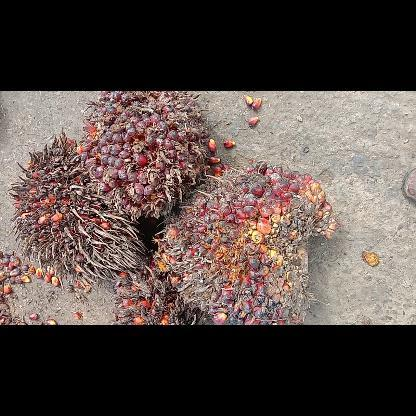TBS masak: (154, 162, 340, 324), (81, 90, 211, 218)
Terlalu masak: (8, 128, 148, 288), (112, 260, 204, 324)
